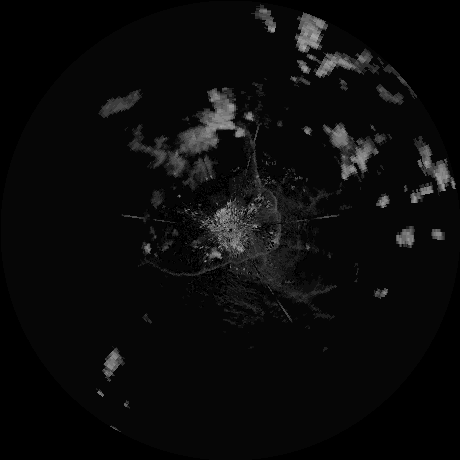frontgust: (264, 190, 282, 256), (251, 123, 263, 189)
